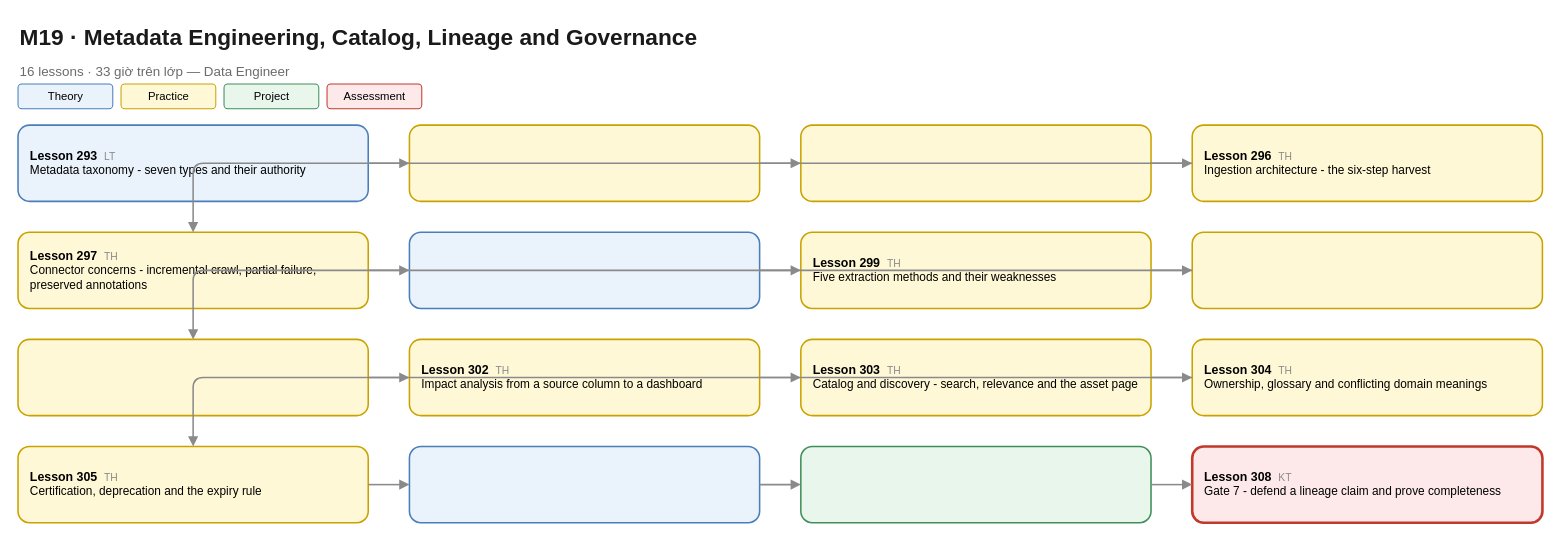
Some shapes in this 1561 by 542 pixel diagram are drawn without their labels. The centre of each missing label's shape, as x and y in pixels:
"Lesson 294 TH The canonical model - entities, URNs and identity" goes at pixel 584 163.
"Lesson 295 TH Relationships, versioning, rename and soft deletion" goes at pixel 975 163.
"Lesson 298 LT Lineage levels and what each answers" goes at pixel 584 270.
"Lesson 300 TH Edge provenance - extracted, inferred, manual, unknown" goes at pixel 1367 270.
"Lesson 301 TH Column lineage - why a parser cannot always prove it" goes at pixel 193 377.
"Lesson 306 LT Classification, retention and the enforcement boundary" goes at pixel 584 484.
"Lesson 307 DA Metadata control-plane capstone" goes at pixel 975 484.
